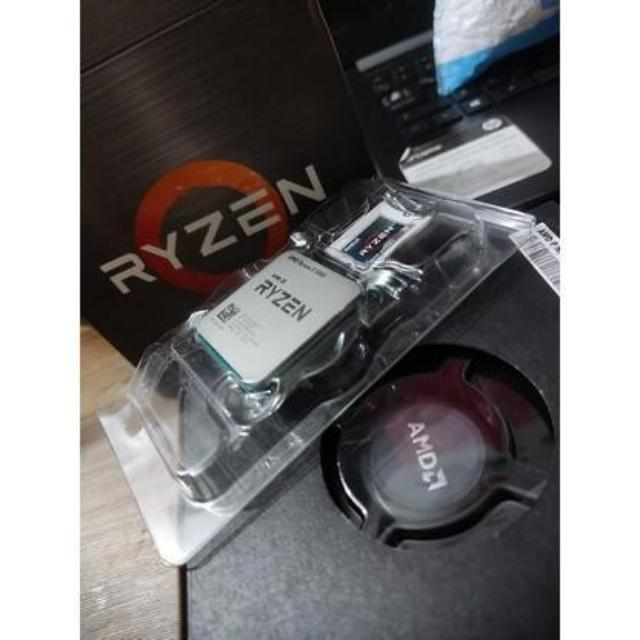CPU: (196, 250, 362, 375)
